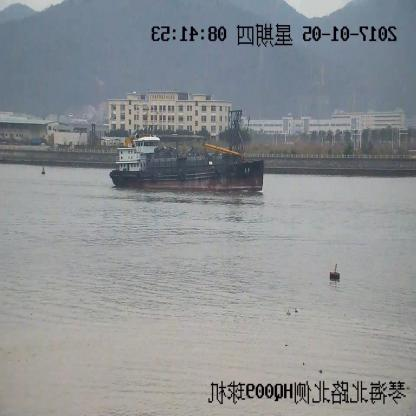Bulk Carrier: (111, 110, 265, 195)
